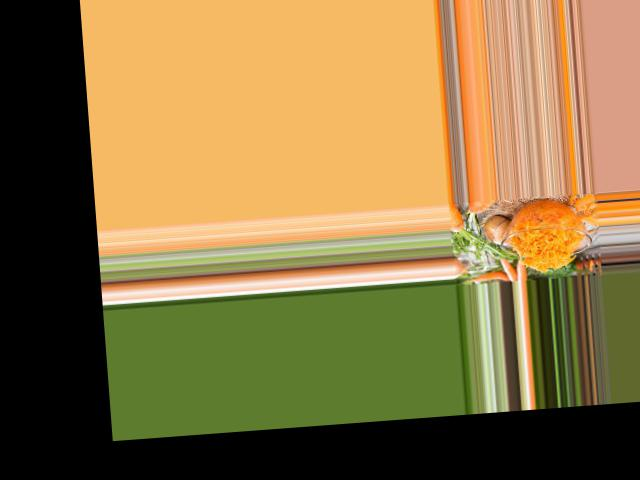carrot: (516, 259, 526, 279)
